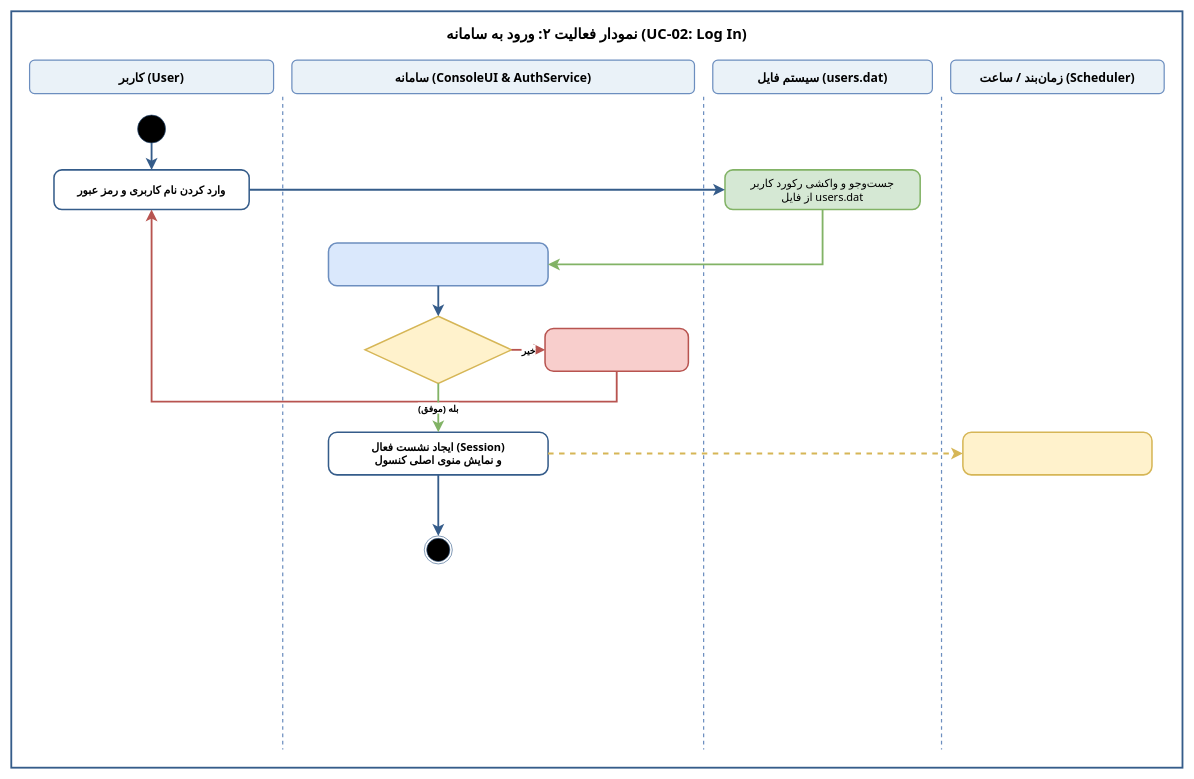
This 1194x779 diagram has some shape labels left out. Each missing label, with the box of its shape:
آیا نام کاربری و رمز معتبر است؟: (364, 315, 512, 384)
تحریک خودکار بررسی یادآورهای سررسید (UC-06): (962, 431, 1152, 475)
هش کردن رمز ورودی با Salt ذخیره‌شده و مقایسه با passwordHash: (327, 242, 549, 286)
چاپ خطای «invalid credentials» (عدم ایجاد نشست): (544, 327, 689, 372)
